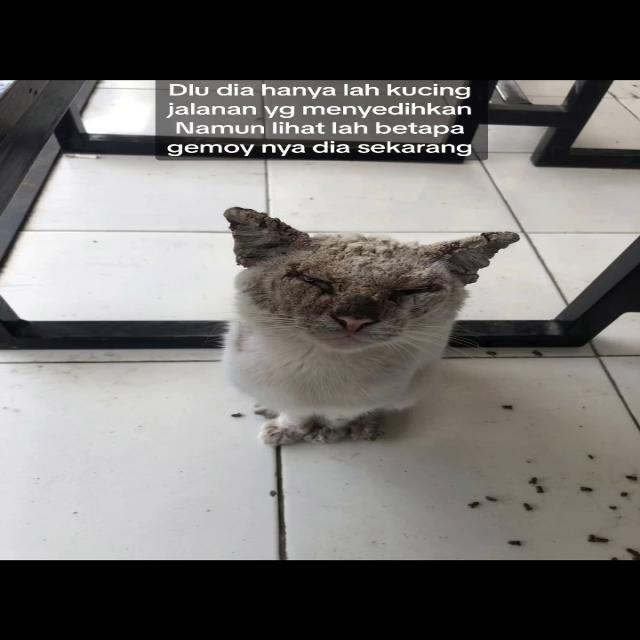ghe: (396, 219, 525, 325), (215, 210, 334, 318)
